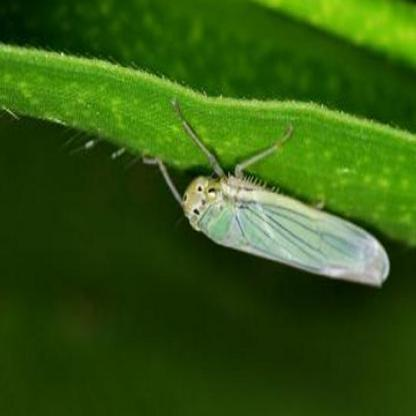green-leafhopper: (166, 113, 390, 292)
